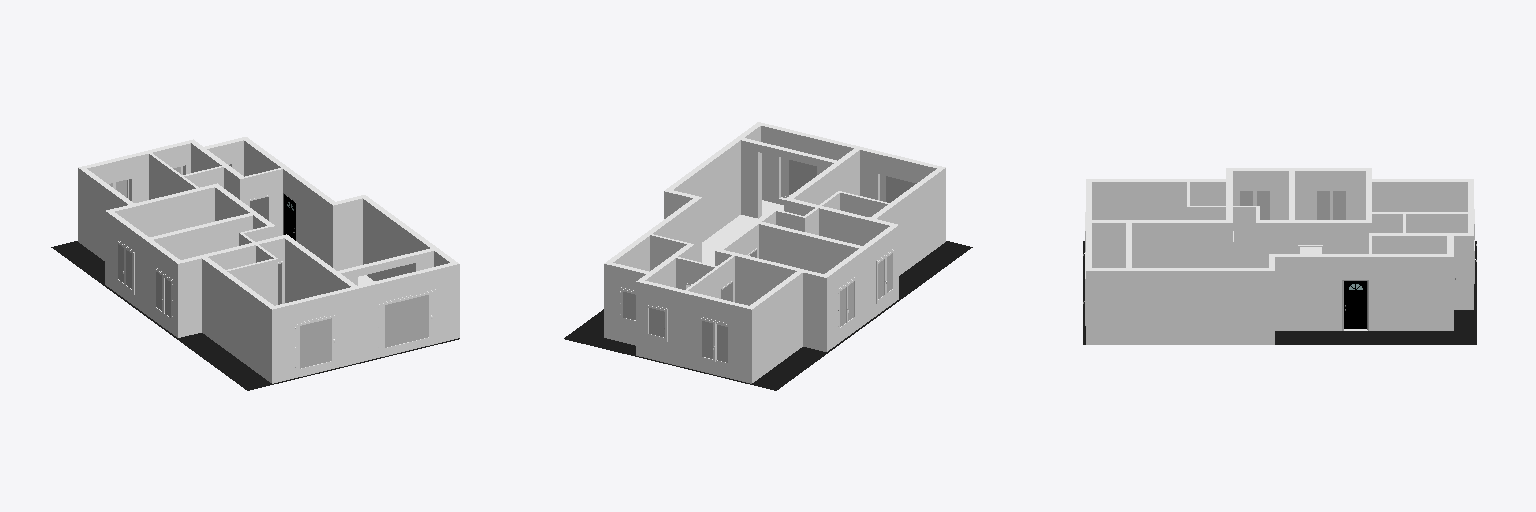
Rendered from house_bak.obj.
3 views of the same model, side by side, from view 1: azimuth 30°, elevation 25°; view 2: azimuth 150°, elevation 25°; view 3: azimuth 270°, elevation 25° (orthographic).
Parts seen in each view (by area): view 1: wall_7_39, wall_8_45, wall_10_57, wall_4_24, ground_1, wall_6_36, wall_17_102, wall_11_63, wall_14_84, wall_15_90, wall_1_6, wall_5_30 (+12 smaller); view 2: wall_1_3, ground_1, wall_7_42, wall_11_63, wall_8_45, wall_10_57, wall_6_36, wall_15_87, wall_17_99, wall_4_24, wall_3_15, wall_12_69 (+10 smaller); view 3: wall_6_33, wall_4_21, wall_14_81, wall_8_48, wall_10_60, ground_1, wall_11_66, wall_18_105, wall_2_9, wall_26_156, wall_19_111, wall_16_96 (+3 smaller).
Boxes of the visible parts, <box> form: wall_7_39: <box>272,264,459,383</box>; wall_8_45: <box>202,259,271,382</box>; wall_10_57: <box>107,212,177,337</box>; wall_4_24: <box>244,141,332,267</box>; ground_1: <box>51,241,459,390</box>; wall_6_36: <box>363,199,449,280</box>; wall_17_102: <box>135,187,214,236</box>; wall_11_63: <box>78,168,127,260</box>; wall_14_84: <box>285,239,350,302</box>; wall_15_90: <box>154,216,252,259</box>; wall_1_6: <box>87,143,190,202</box>; wall_5_30: <box>333,198,362,270</box>; wall_1_3: <box>636,282,751,383</box>; ground_1: <box>564,241,972,390</box>; wall_7_42: <box>761,126,936,204</box>; wall_11_63: <box>752,273,802,382</box>; wall_8_45: <box>877,168,945,275</box>; wall_10_57: <box>828,225,898,350</box>; wall_6_36: <box>674,126,760,241</box>; wall_15_87: <box>759,224,858,273</box>; wall_17_99: <box>715,251,796,305</box>; wall_4_24: <box>613,198,701,271</box>; wall_3_15: <box>604,264,645,345</box>; wall_12_69: <box>803,273,827,351</box>; wall_6_33: <box>1086,271,1274,344</box>; wall_4_21: <box>1275,257,1453,330</box>; wall_14_81: <box>1092,223,1232,267</box>; wall_8_48: <box>1092,182,1225,219</box>; wall_10_60: <box>1233,171,1365,219</box>; ground_1: <box>1083,241,1476,344</box>; wall_11_66: <box>1372,182,1467,211</box>; wall_18_105: <box>1295,223,1371,253</box>; wall_2_9: <box>1454,236,1473,309</box>; wall_26_156: <box>1233,207,1255,267</box>; wall_19_111: <box>1372,236,1446,253</box>; wall_16_96: <box>1256,223,1293,267</box>.
Size of the model in its own units: 903 by 300 by 1440.